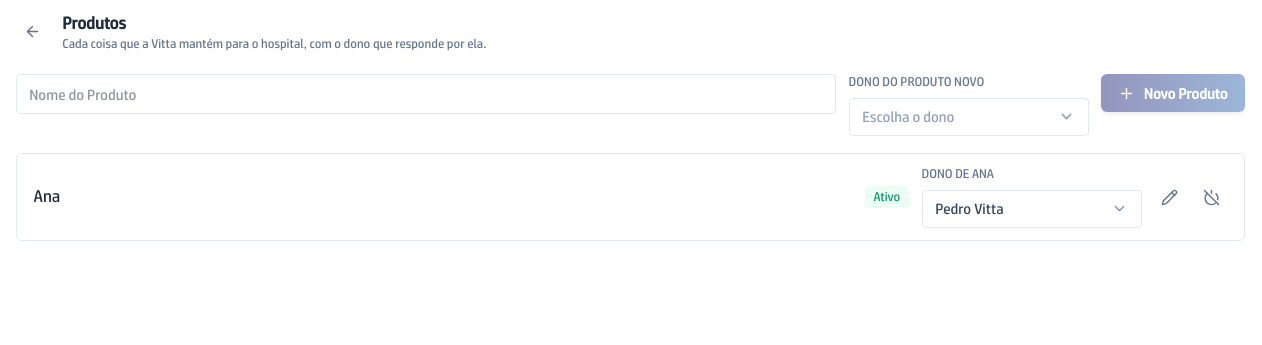
A lista de Produtos › o dono só pode ser escolhido entre as pessoas com acesso à aba
The image size is (1262, 345).
Click the dropdown named "Dono de Ana" at point(1032, 209), box [922,190,1142,228]
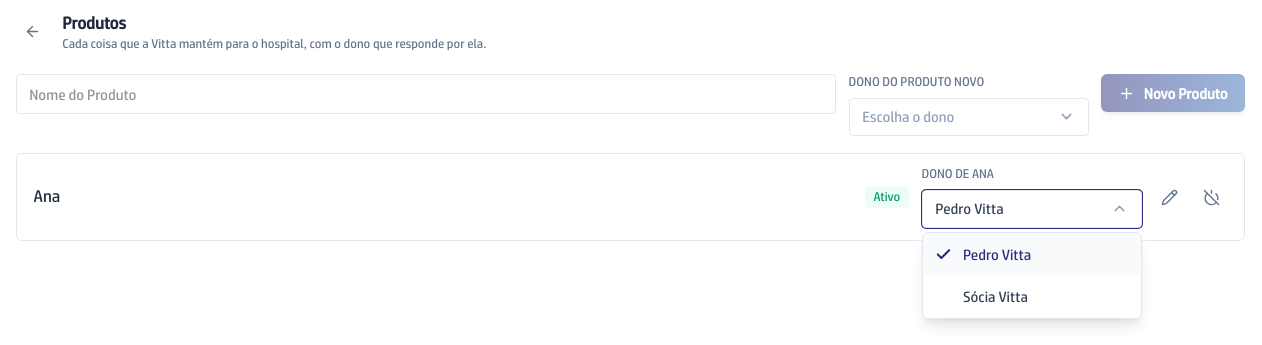
expect the options read "Pedro Vitta", "Sócia Vitta", in this order: met, box [922,233,1140,276]; [963,288,1028,305]
